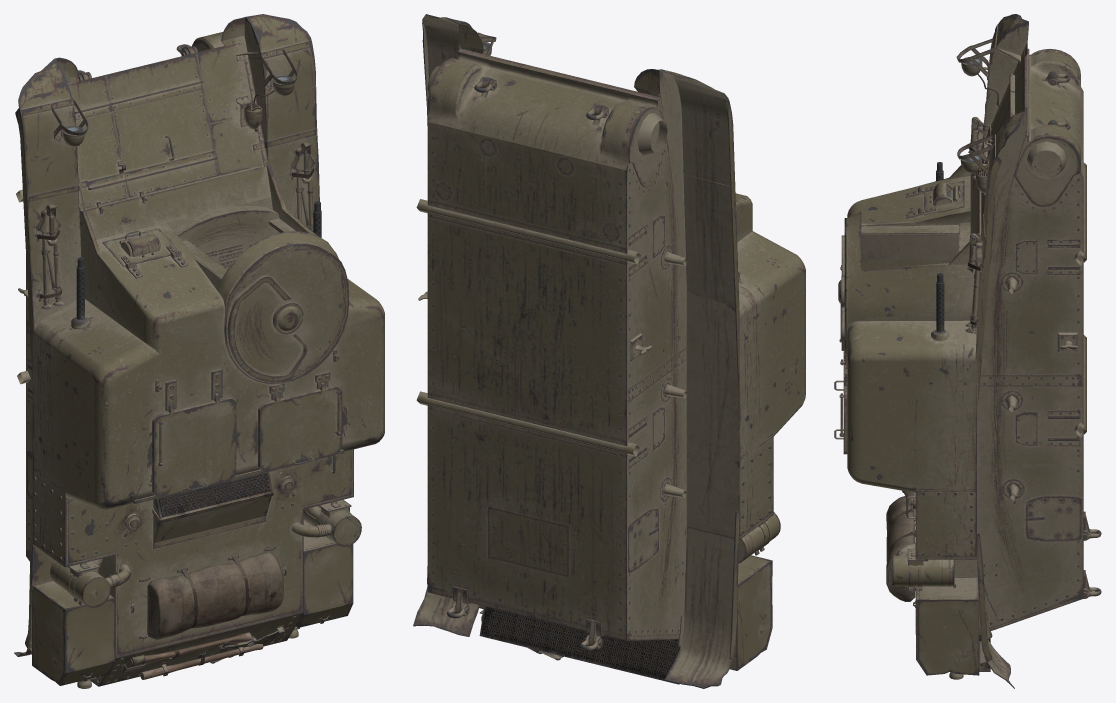
File: Hull.glb
The picture shows the model from 3 angles, left to right: view 1: azimuth 30°, elevation 25°; view 2: azimuth 150°, elevation 25°; view 3: azimuth 270°, elevation 25°; orthographic projection. The views are drawn at different scales.
Parts seen in each view (by area): view 1: set_0_group_0; view 2: set_0_group_0; view 3: set_0_group_0.
Part boxes in pixels (<box>): set_0_group_0: <box>14,14,384,688</box>; set_0_group_0: <box>413,14,805,688</box>; set_0_group_0: <box>834,14,1101,688</box>.
Size of the model in its own units: 2.28 by 4.52 by 1.9.
1 material, 1 textured.
